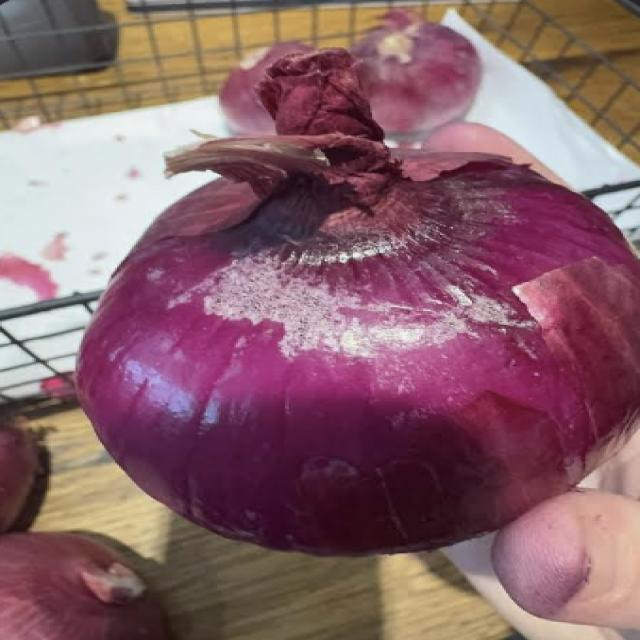mechanical_damage: (0, 48, 638, 556)
